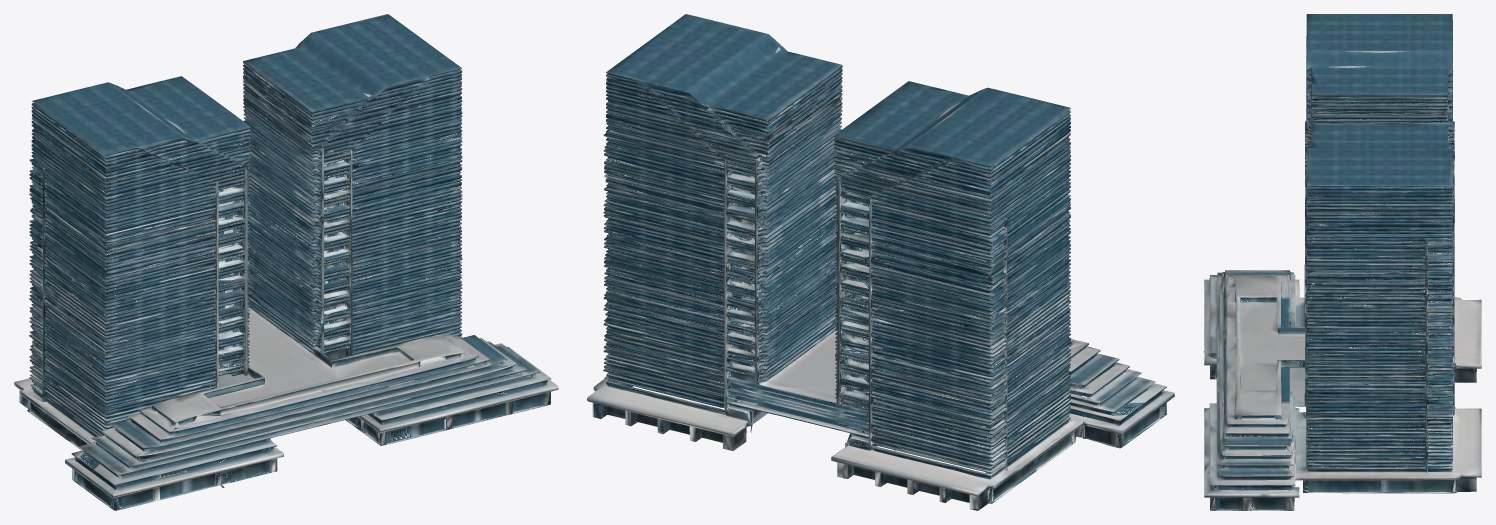
The model's file is twin-glass-towers.glb.
3 renders of one model, left to right at view 1: azimuth 30°, elevation 25°; view 2: azimuth 150°, elevation 25°; view 3: azimuth 270°, elevation 25°, orthographic. The views are drawn at different scales.
Bounding box in the file's own units: 1.9 × 1.27 × 1.04.
Materials: 1 (1 with a texture image).
